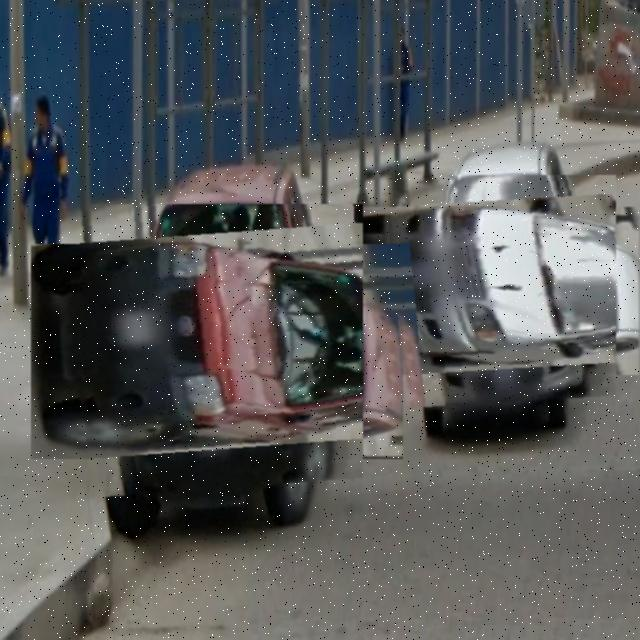car: (71, 206, 364, 500), (385, 176, 617, 409)
